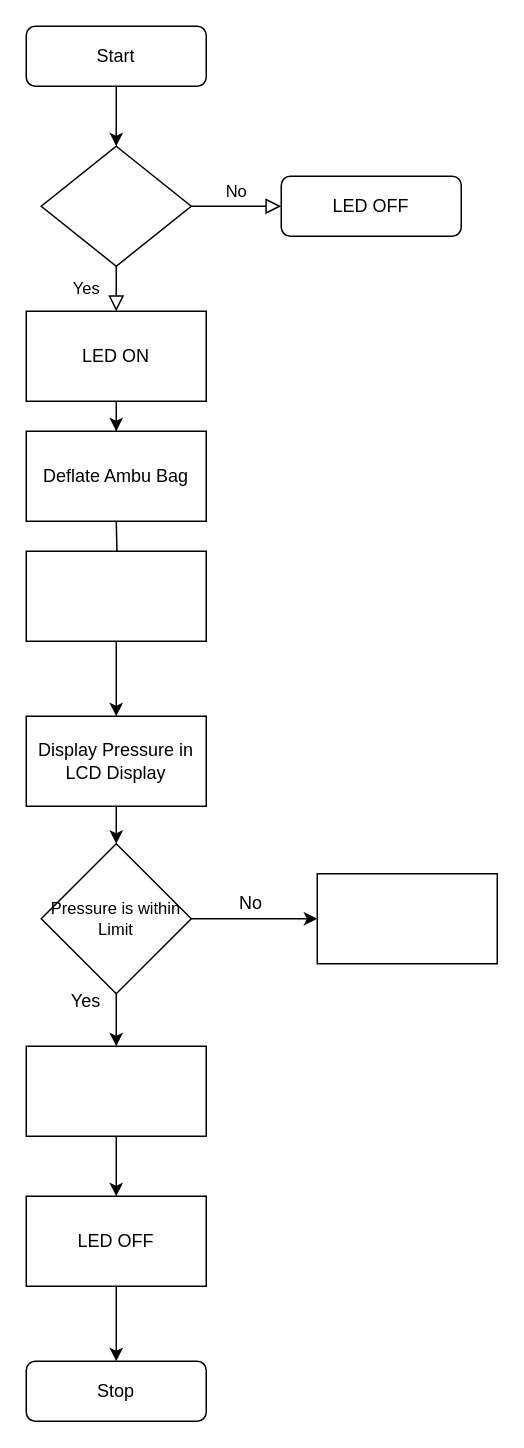
Image size: 524x1448. Some labels were removed from this diagram. Here are the shapes that lost their labels. From the top down, the centre of each, then its label:
the point at 115,205: DC Motor ON
the point at 115,595: Sensor Detects Pressure Applied
the point at 406,918: Indicate Over Pressure through LED
the point at 115,1090: Reinflate Ambu Bag
